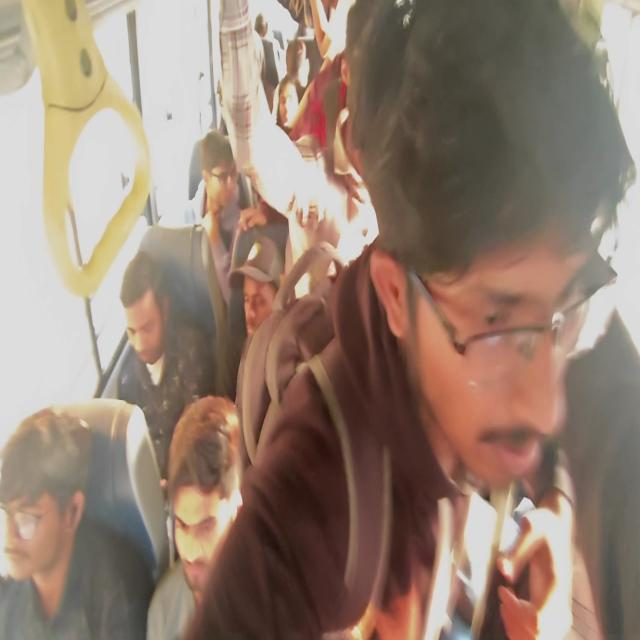person: (371, 106, 606, 479), (1, 434, 86, 602), (176, 428, 244, 585), (119, 253, 180, 354), (228, 255, 276, 344), (193, 132, 244, 200), (340, 24, 370, 125), (277, 72, 304, 130), (285, 33, 309, 67), (254, 12, 272, 43)
